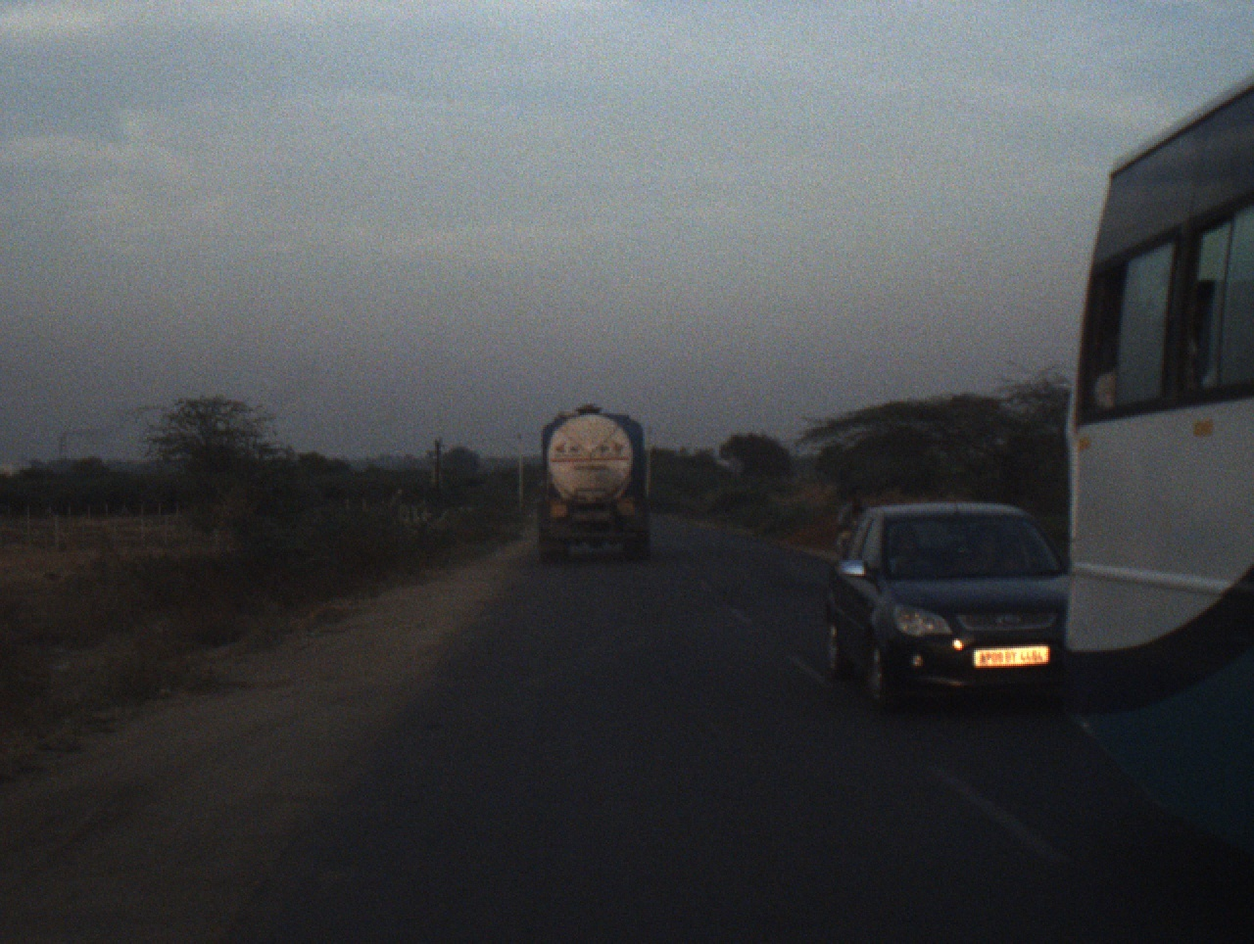bus: (1063, 72, 1254, 779)
car: (821, 496, 1063, 712), (836, 526, 855, 550)
rider: (837, 490, 871, 531)
truck: (531, 399, 654, 570)
